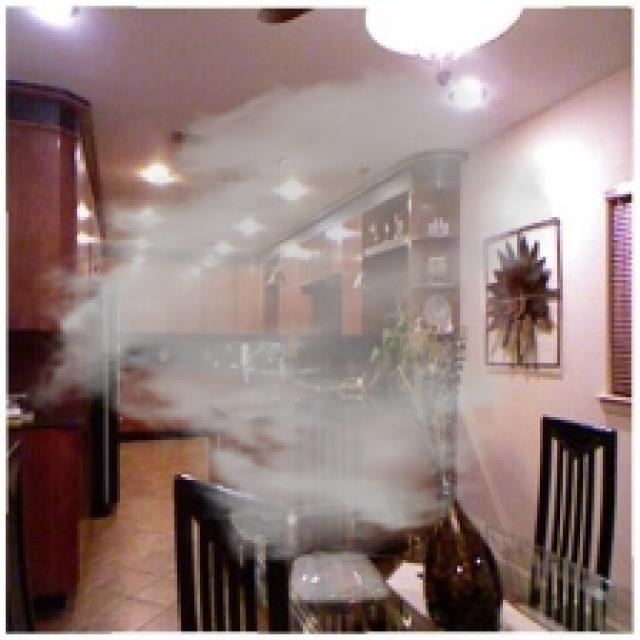Smoke: (20, 57, 557, 572)
